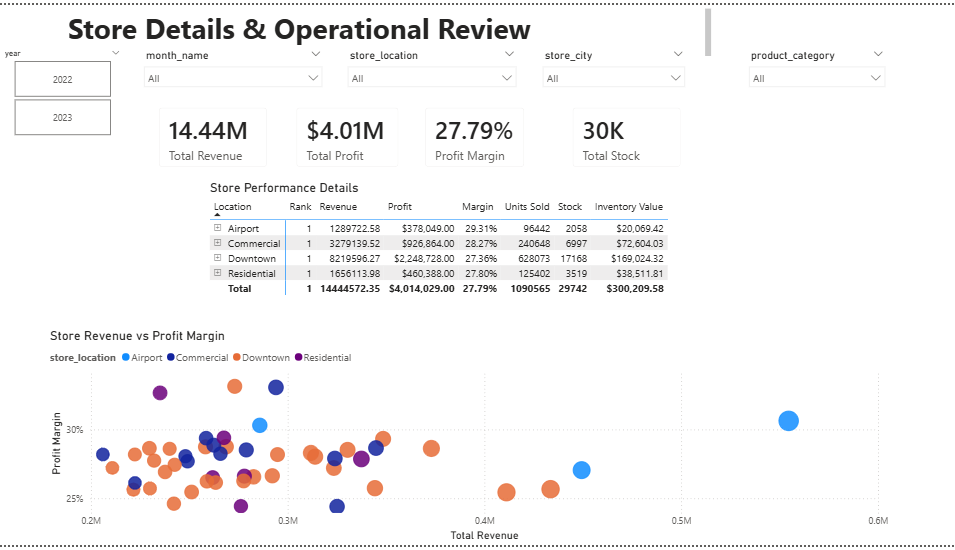

This screenshot's page, from the dashboard's own definition file:
{"tool":"powerbi","page":{"name":"Store Details","canvas":[1280,720],"ordinal":6},"visuals":[{"type":"textbox","box":[10,0,950,75],"z":0},{"type":"slicer","fields":{"Values":["dim_date.year"]},"box":[0,53.3,178.3,126.7],"z":1000},{"type":"slicer","fields":{"Values":["dim_stores.store_city"]},"box":[720,53.3,210,63.3],"z":2000},{"type":"slicer","fields":{"Values":["vw_inventory_status.product_category"]},"box":[995,53.3,201.7,63.3],"z":3000},{"type":"slicer","fields":{"Values":["dim_date.month_name"]},"box":[188.3,53.3,258.3,63.3],"z":4000},{"type":"slicer","fields":{"Values":["dim_stores.store_location"]},"box":[460,53.3,245,63.3],"z":5000},{"type":"cardVisual","fields":{"Data":["fact_sales.Total Revenue"]},"box":[202.3,120.3,178.3,113.3],"z":6000},{"type":"cardVisual","fields":{"Data":["fact_sales.Total Profit"]},"box":[385.7,120.3,170,113.3],"z":7000},{"type":"cardVisual","fields":{"Data":["fact_sales.Profit Margin"]},"box":[557.3,120.3,166.7,113.3],"z":8000},{"type":"cardVisual","fields":{"Data":["fact_inventory.Total Stock"]},"box":[754,120.3,178.3,113.3],"z":9000},{"type":"pivotTable","title":"Store Performance Details","fields":{"Rows":["dim_stores.store_location","dim_stores.store_city","dim_stores.store_name"],"Values":["fact_sales.Store Rank by Revenue","fact_sales.Total Revenue","fact_sales.Total Profit","fact_sales.Profit Margin","fact_sales.Total Units Sold","fact_inventory.Total Stock","fact_inventory.Inventory Cost Value"]},"box":[281.7,233.3,678.3,168.3],"z":10000},{"type":"scatterChart","title":"Store Revenue vs Profit Margin","fields":{"X":["fact_sales.Total Revenue"],"Y":["fact_sales.Profit Margin"],"Size":["fact_sales.Total Units Sold"],"Series":["dim_stores.store_location"],"Category":["dim_stores.store_name"]},"box":[68.3,430,1128.3,290],"z":11000}]}

Visuals, with their boxes in screenshot pixels (x1, y1, x2, y2), scaled from the page's 1280x720 canvas onto the 955x550 screenshot:
textbox: [left=7, top=0, right=716, bottom=57]
slicer - dim_date.year: [left=0, top=41, right=133, bottom=138]
slicer - dim_stores.store_city: [left=537, top=41, right=694, bottom=89]
slicer - vw_inventory_status.product_category: [left=742, top=41, right=893, bottom=89]
slicer - dim_date.month_name: [left=140, top=41, right=333, bottom=89]
slicer - dim_stores.store_location: [left=343, top=41, right=526, bottom=89]
cardVisual - fact_sales.Total Revenue: [left=151, top=92, right=284, bottom=178]
cardVisual - fact_sales.Total Profit: [left=288, top=92, right=415, bottom=178]
cardVisual - fact_sales.Profit Margin: [left=416, top=92, right=540, bottom=178]
cardVisual - fact_inventory.Total Stock: [left=563, top=92, right=696, bottom=178]
"Store Performance Details" pivotTable: [left=210, top=178, right=716, bottom=307]
"Store Revenue vs Profit Margin" scatterChart: [left=51, top=328, right=893, bottom=549]
